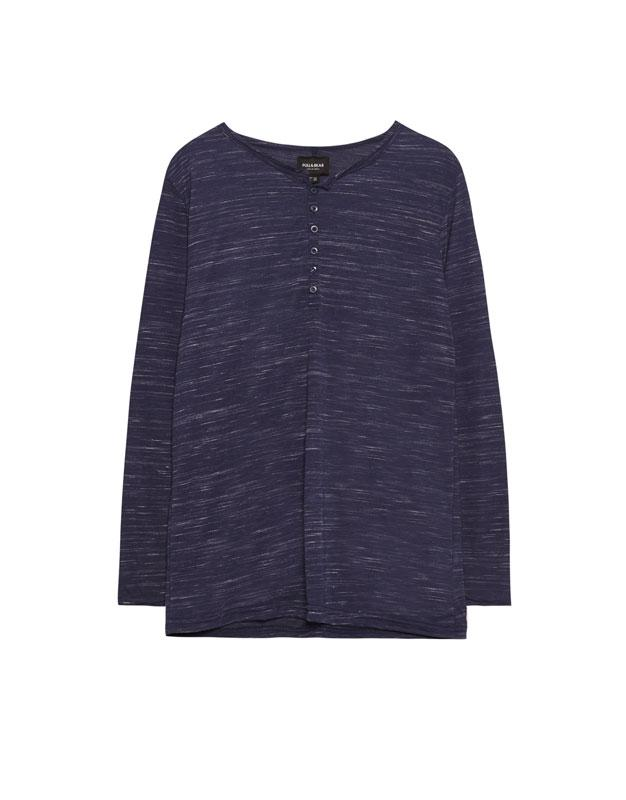teeshirt: (89, 109, 529, 711)
